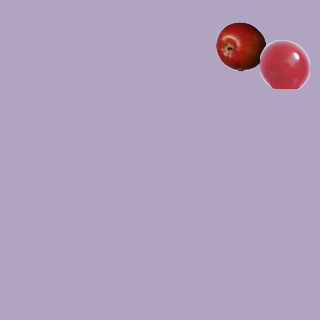Apple Braeburn: (215, 21, 265, 71)
Redcurrant: (259, 39, 309, 89)
